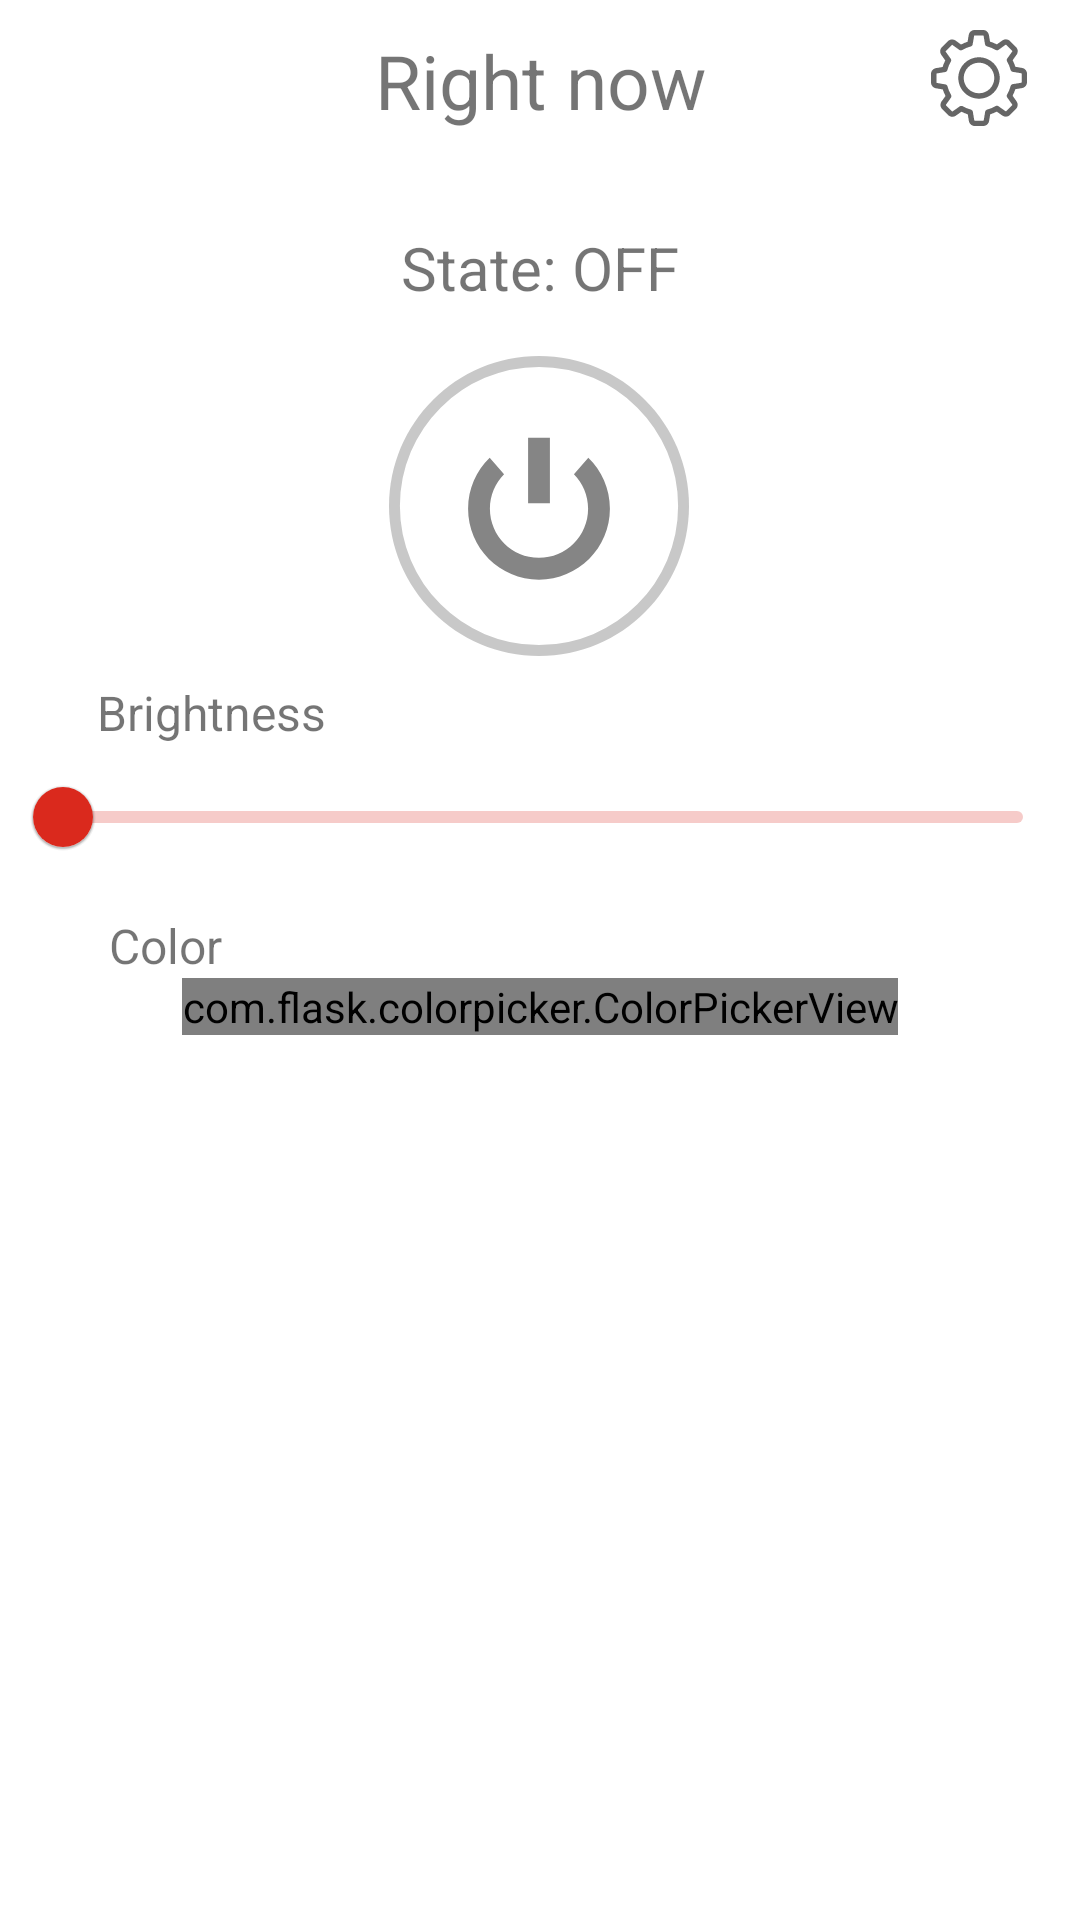

Point at icon controls on the screen. Image size 1080px x 1920px, points as (x,y).
Device settings: (979,78)
Device state: (539,506)
